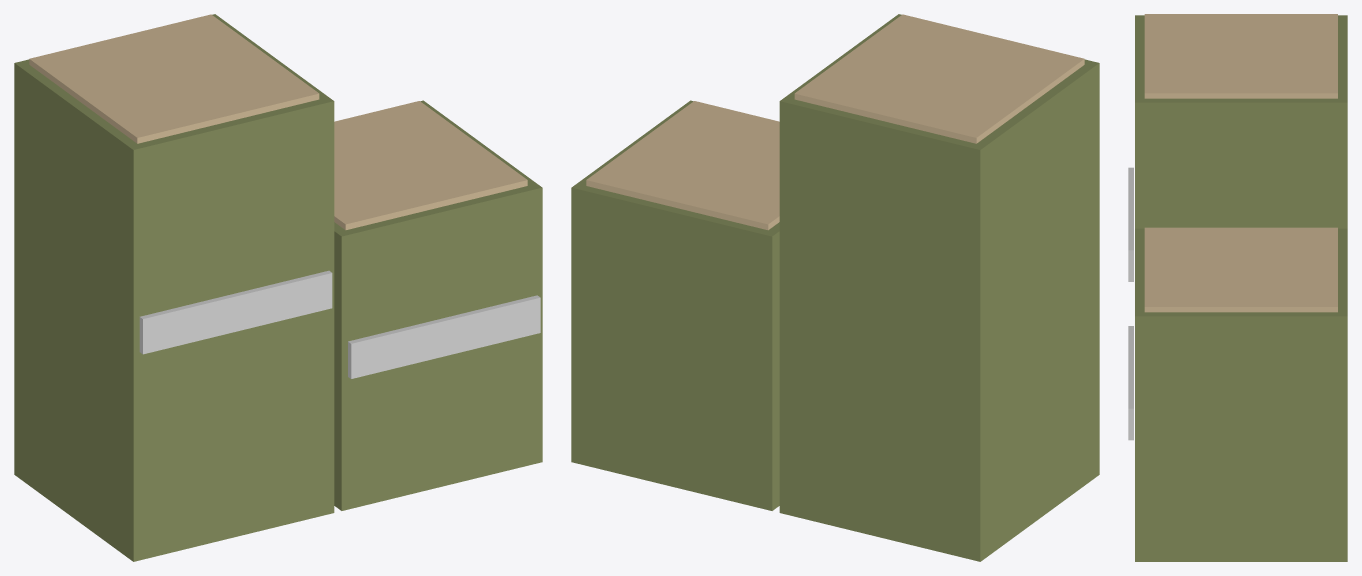
The model's file is SM_HescoCorto2_v2_Escalonado_e0_Sano_LOD1.fbx.
3 views of the same model, side by side, from view 1: azimuth 30°, elevation 25°; view 2: azimuth 150°, elevation 25°; view 3: azimuth 270°, elevation 25° (orthographic). The views are drawn at different scales.
Visible parts, largest first — view 1: SM_hesco_piezas_v68_LOD1; view 2: SM_hesco_piezas_v68_LOD1; view 3: SM_hesco_piezas_v68_LOD1.
Boxes of the visible parts, x1,y1,x2,y2 form: SM_hesco_piezas_v68_LOD1: [14, 14, 542, 561]; SM_hesco_piezas_v68_LOD1: [571, 14, 1099, 561]; SM_hesco_piezas_v68_LOD1: [1128, 14, 1347, 561].
Size of the model in its own units: 2.18 by 2.13 by 1.13.
